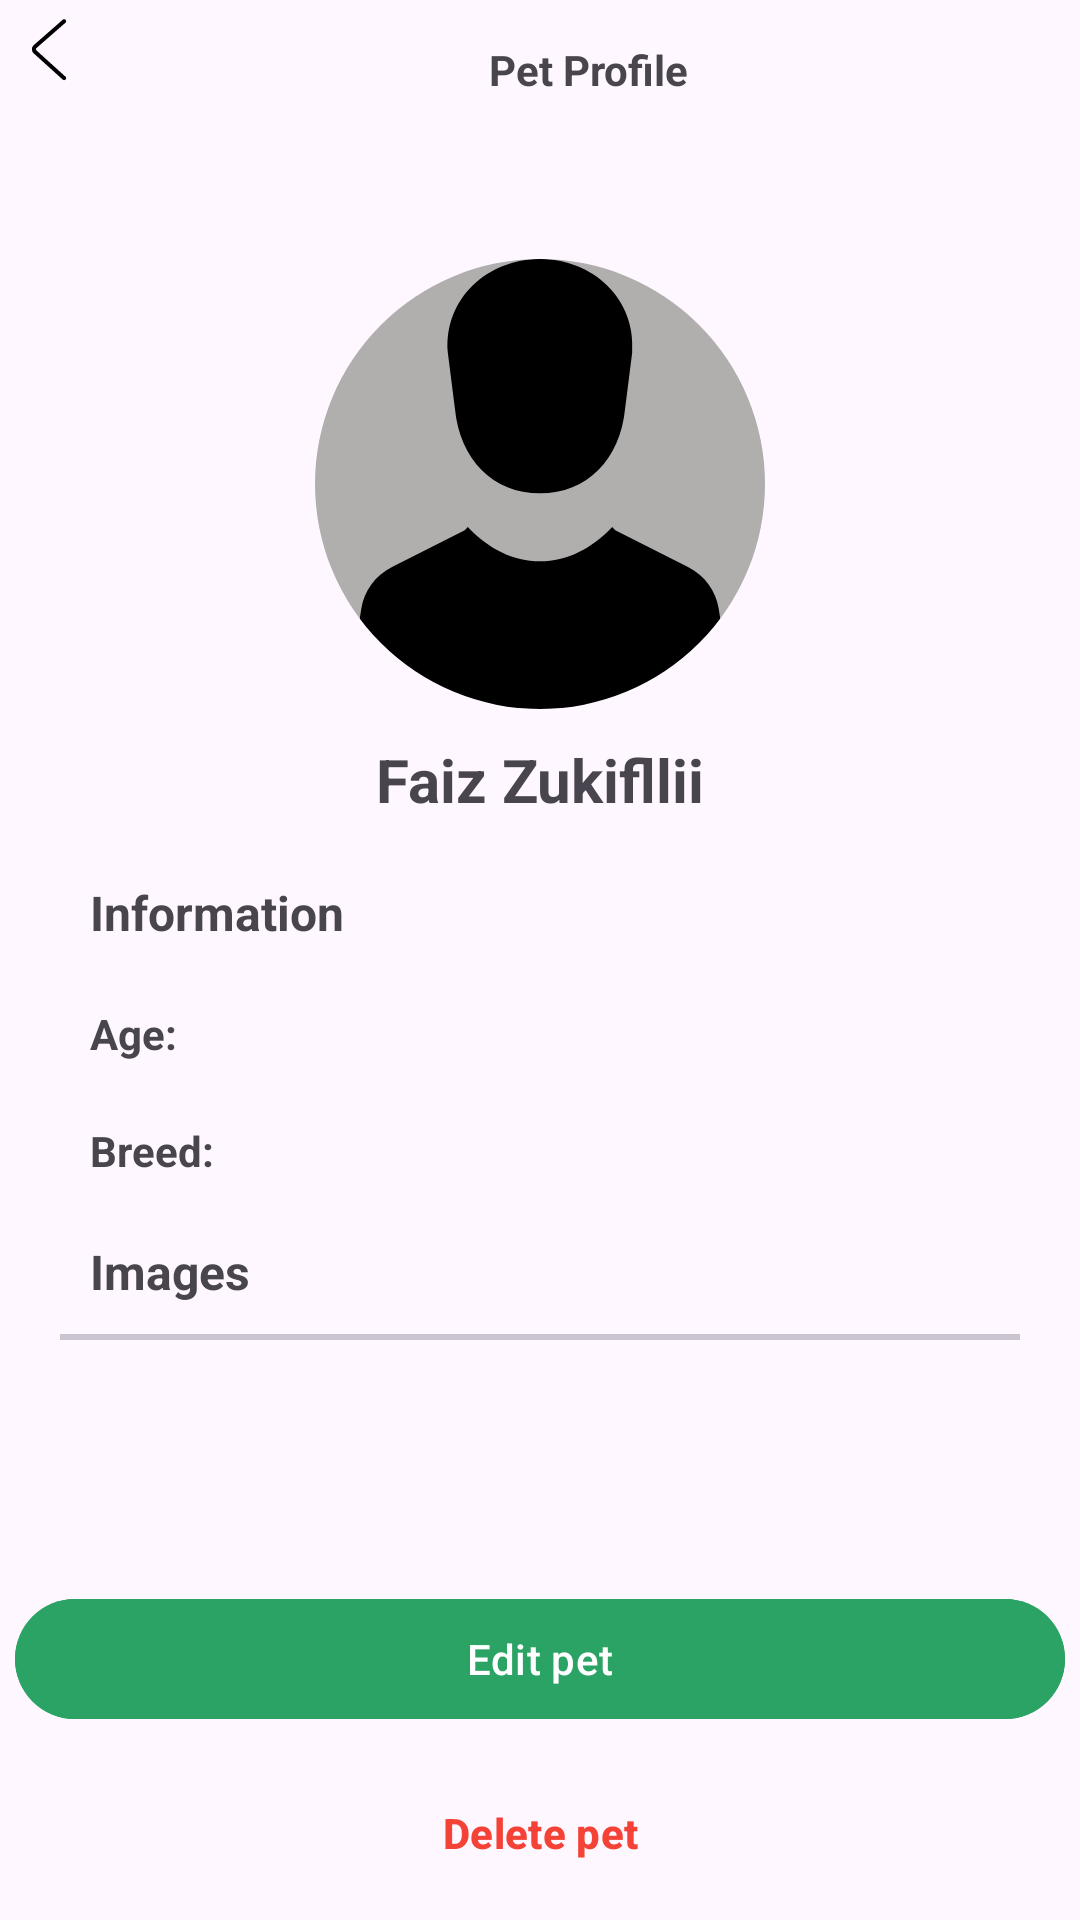

Point at icon controls on the screen. Image size 1080x1920, points as [x,y].
back: [49,49]
